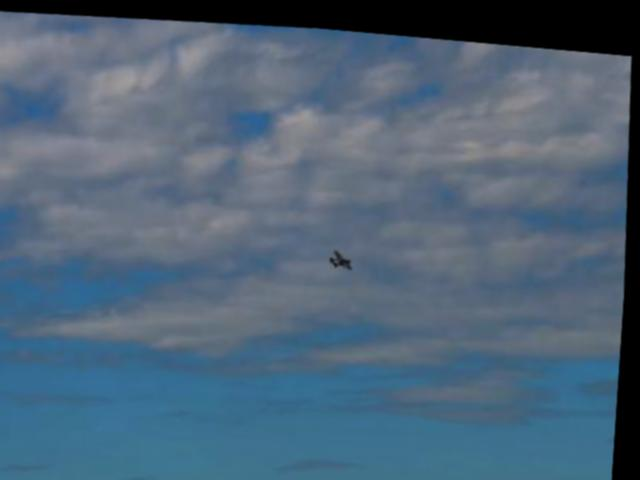uav: (333, 235, 360, 267)
